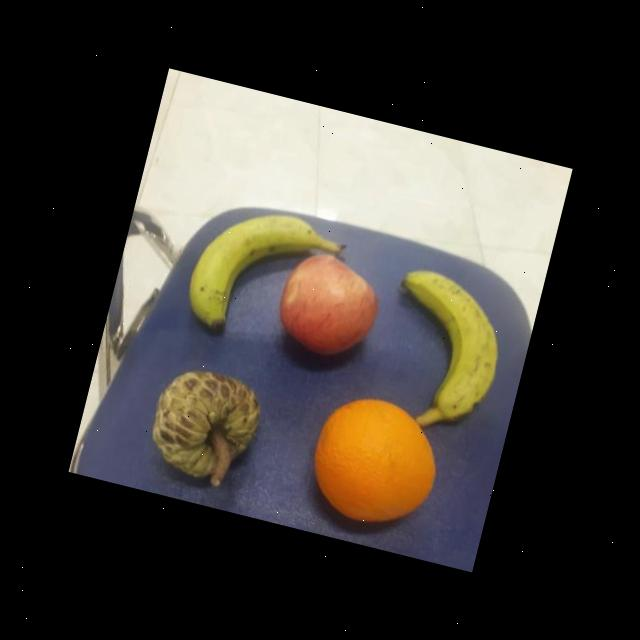Sakya fruit: (140, 360, 268, 490)
apple: (271, 245, 388, 365)
banana: (178, 195, 350, 356), (372, 264, 516, 424)
orange: (301, 388, 450, 535)
